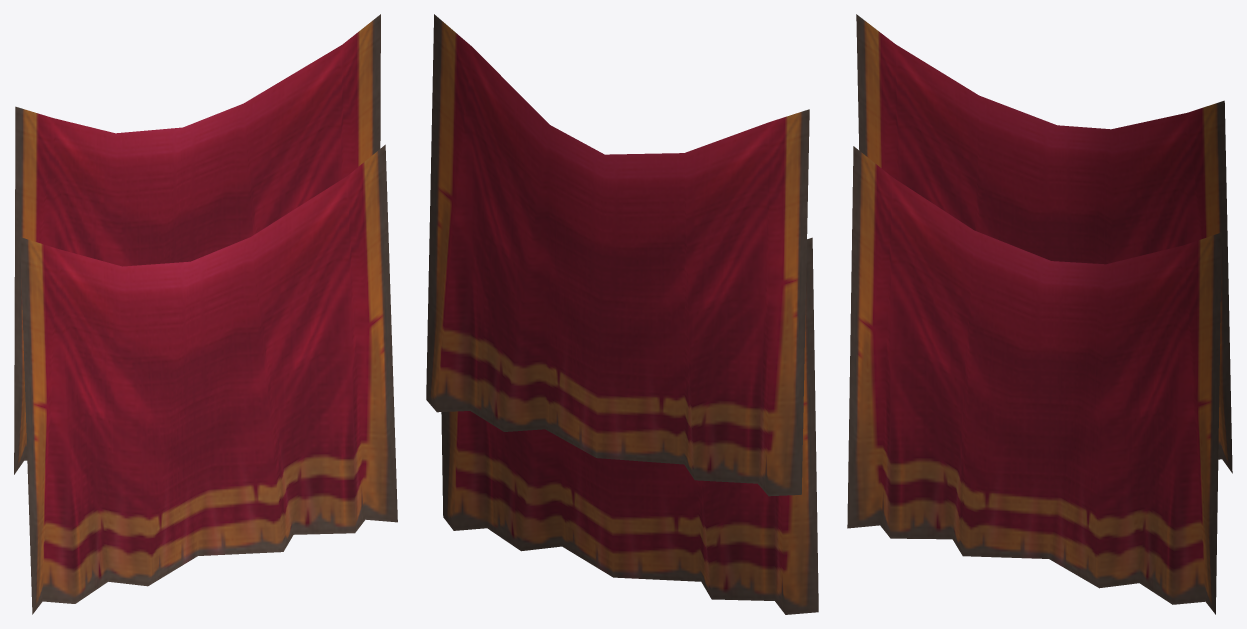
The model's file is secretCurtain.fbx.
3 views of the same model, side by side, from view 1: azimuth 30°, elevation 25°; view 2: azimuth 150°, elevation 25°; view 3: azimuth 330°, elevation 25° (orthographic). The views are drawn at different scales.
Parts seen in each view (by area): view 1: secretCurtain, secretCurtain (1); view 2: secretCurtain (1), secretCurtain; view 3: secretCurtain, secretCurtain (1).
Boxes of the visible parts, x1,y1,x2,y2 form: secretCurtain: [20, 144, 397, 614]; secretCurtain (1): [14, 14, 380, 474]; secretCurtain (1): [426, 14, 809, 496]; secretCurtain: [441, 237, 818, 614]; secretCurtain: [847, 146, 1221, 614]; secretCurtain (1): [856, 14, 1232, 473].
Size of the model in its own units: 4.24 by 5.52 by 0.7006.
